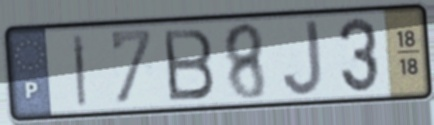3: (336, 15, 382, 94)
7: (108, 27, 154, 109)
8: (221, 20, 269, 102)
B: (160, 25, 218, 104)
I: (70, 31, 89, 109)
J: (280, 17, 325, 99)
